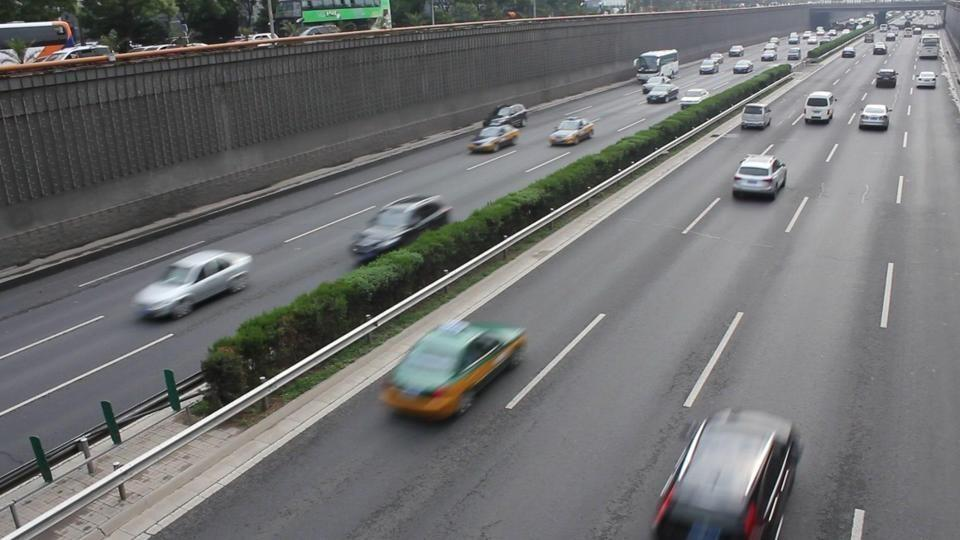car: (650, 406, 804, 539), (378, 318, 529, 423), (130, 250, 254, 322), (348, 193, 455, 266), (731, 154, 789, 200), (34, 44, 117, 66), (467, 125, 520, 154), (548, 116, 596, 146), (486, 103, 528, 129), (804, 92, 835, 125), (740, 103, 772, 131), (858, 103, 890, 131), (644, 83, 679, 103), (918, 35, 940, 60), (874, 68, 898, 88), (914, 69, 937, 89), (733, 60, 753, 75), (0, 50, 19, 64)
